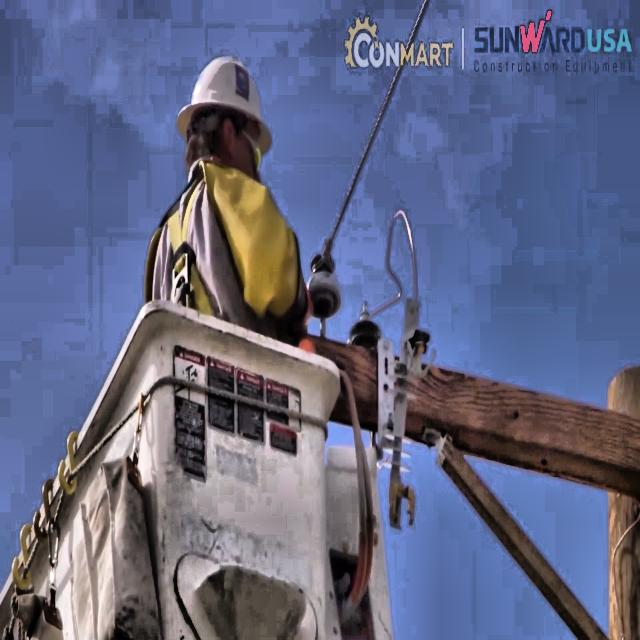safety_helmet: (176, 56, 272, 154)
safety_jacket: (146, 159, 302, 342)
